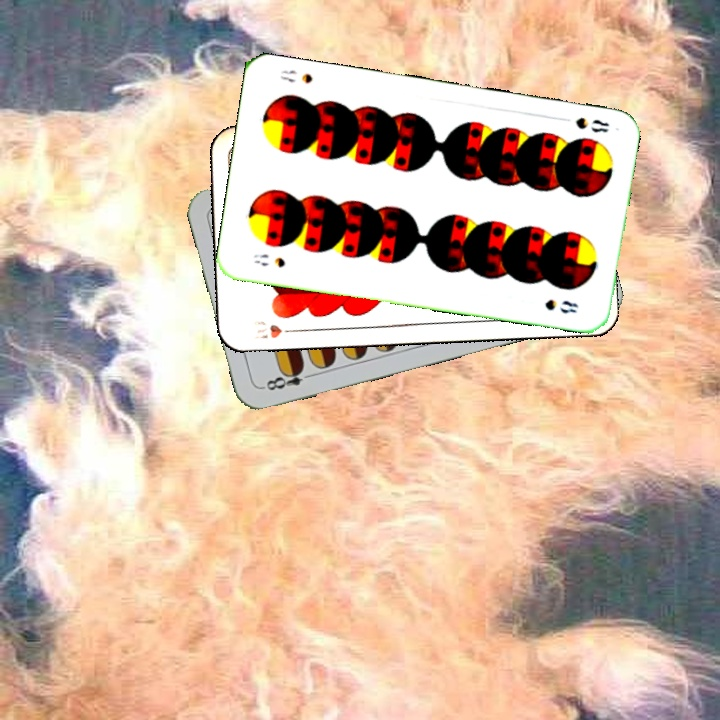E8: (259, 362, 317, 393)
H10: (249, 316, 302, 342)
S8: (571, 113, 611, 135), (250, 249, 288, 270)
